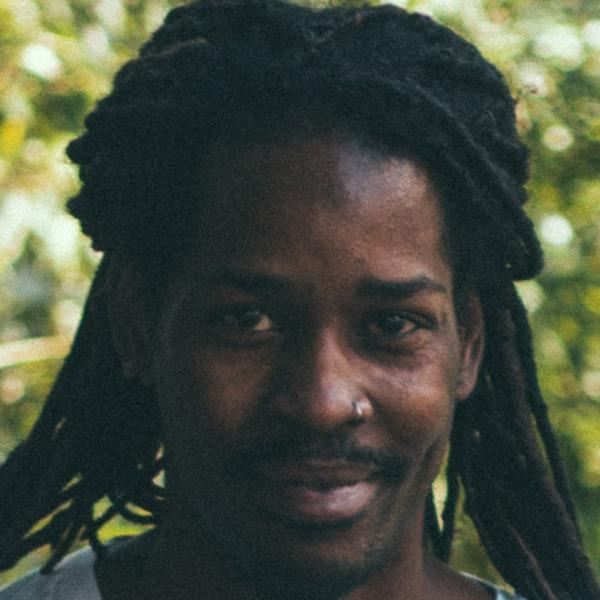Eyes: (351, 301, 437, 356), (199, 296, 289, 348)
